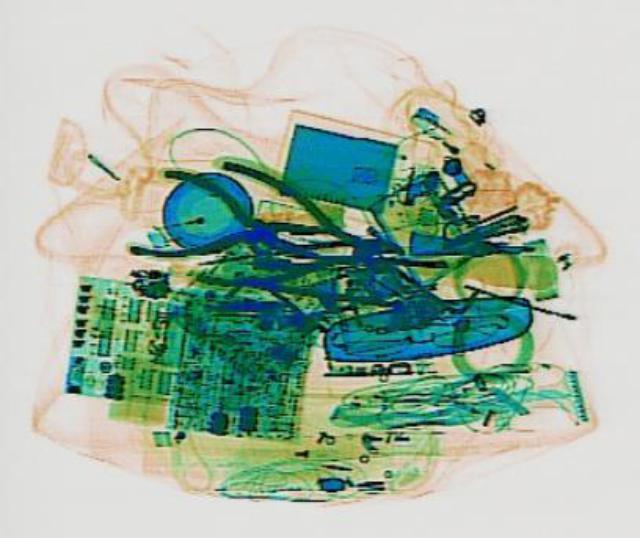Pliers: (182, 156, 420, 314), (125, 163, 328, 279)
